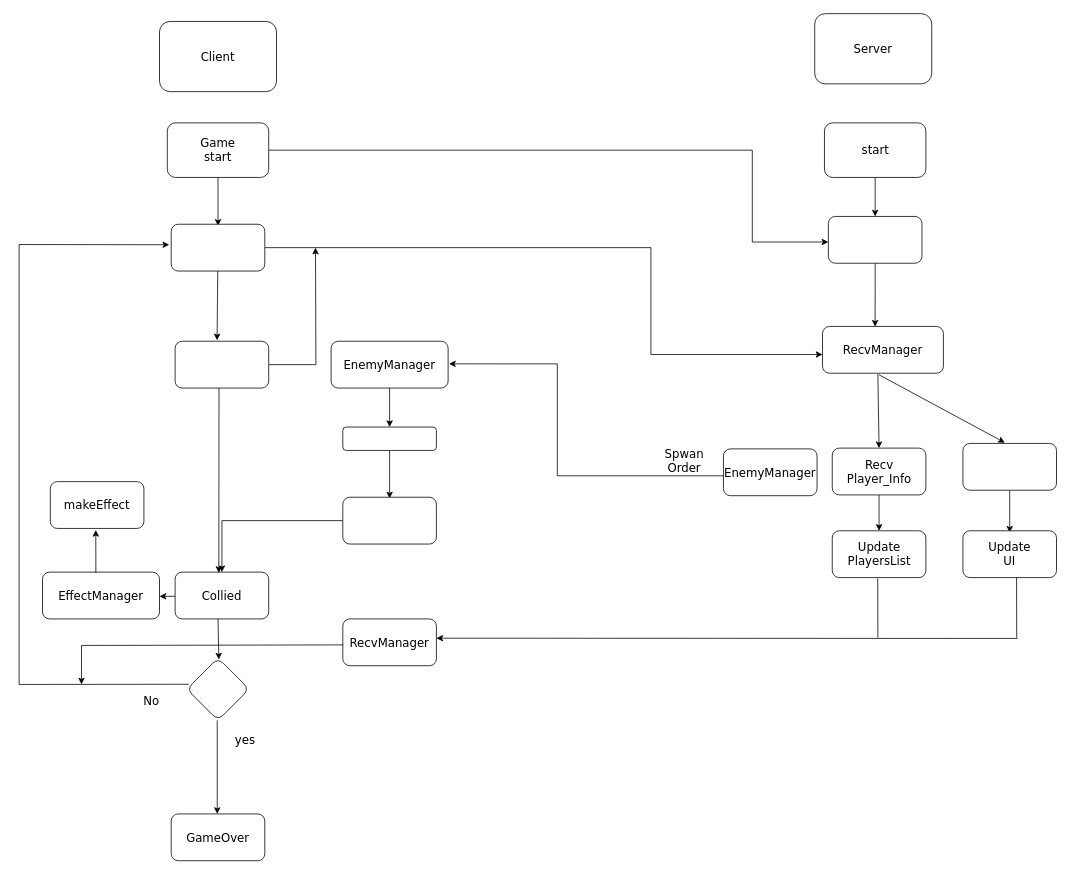
Image size: 1070x874. Some labels were removed from this diagram. Here are the shapes that lost their labels. From the top down, the centre of each, then its label:
point (217, 247): Update
point (875, 239): Connect
point (221, 364): Player
point (389, 438): Spwan
point (1009, 466): Recv UI
point (389, 520): Enemy
point (217, 688): HP = 0
